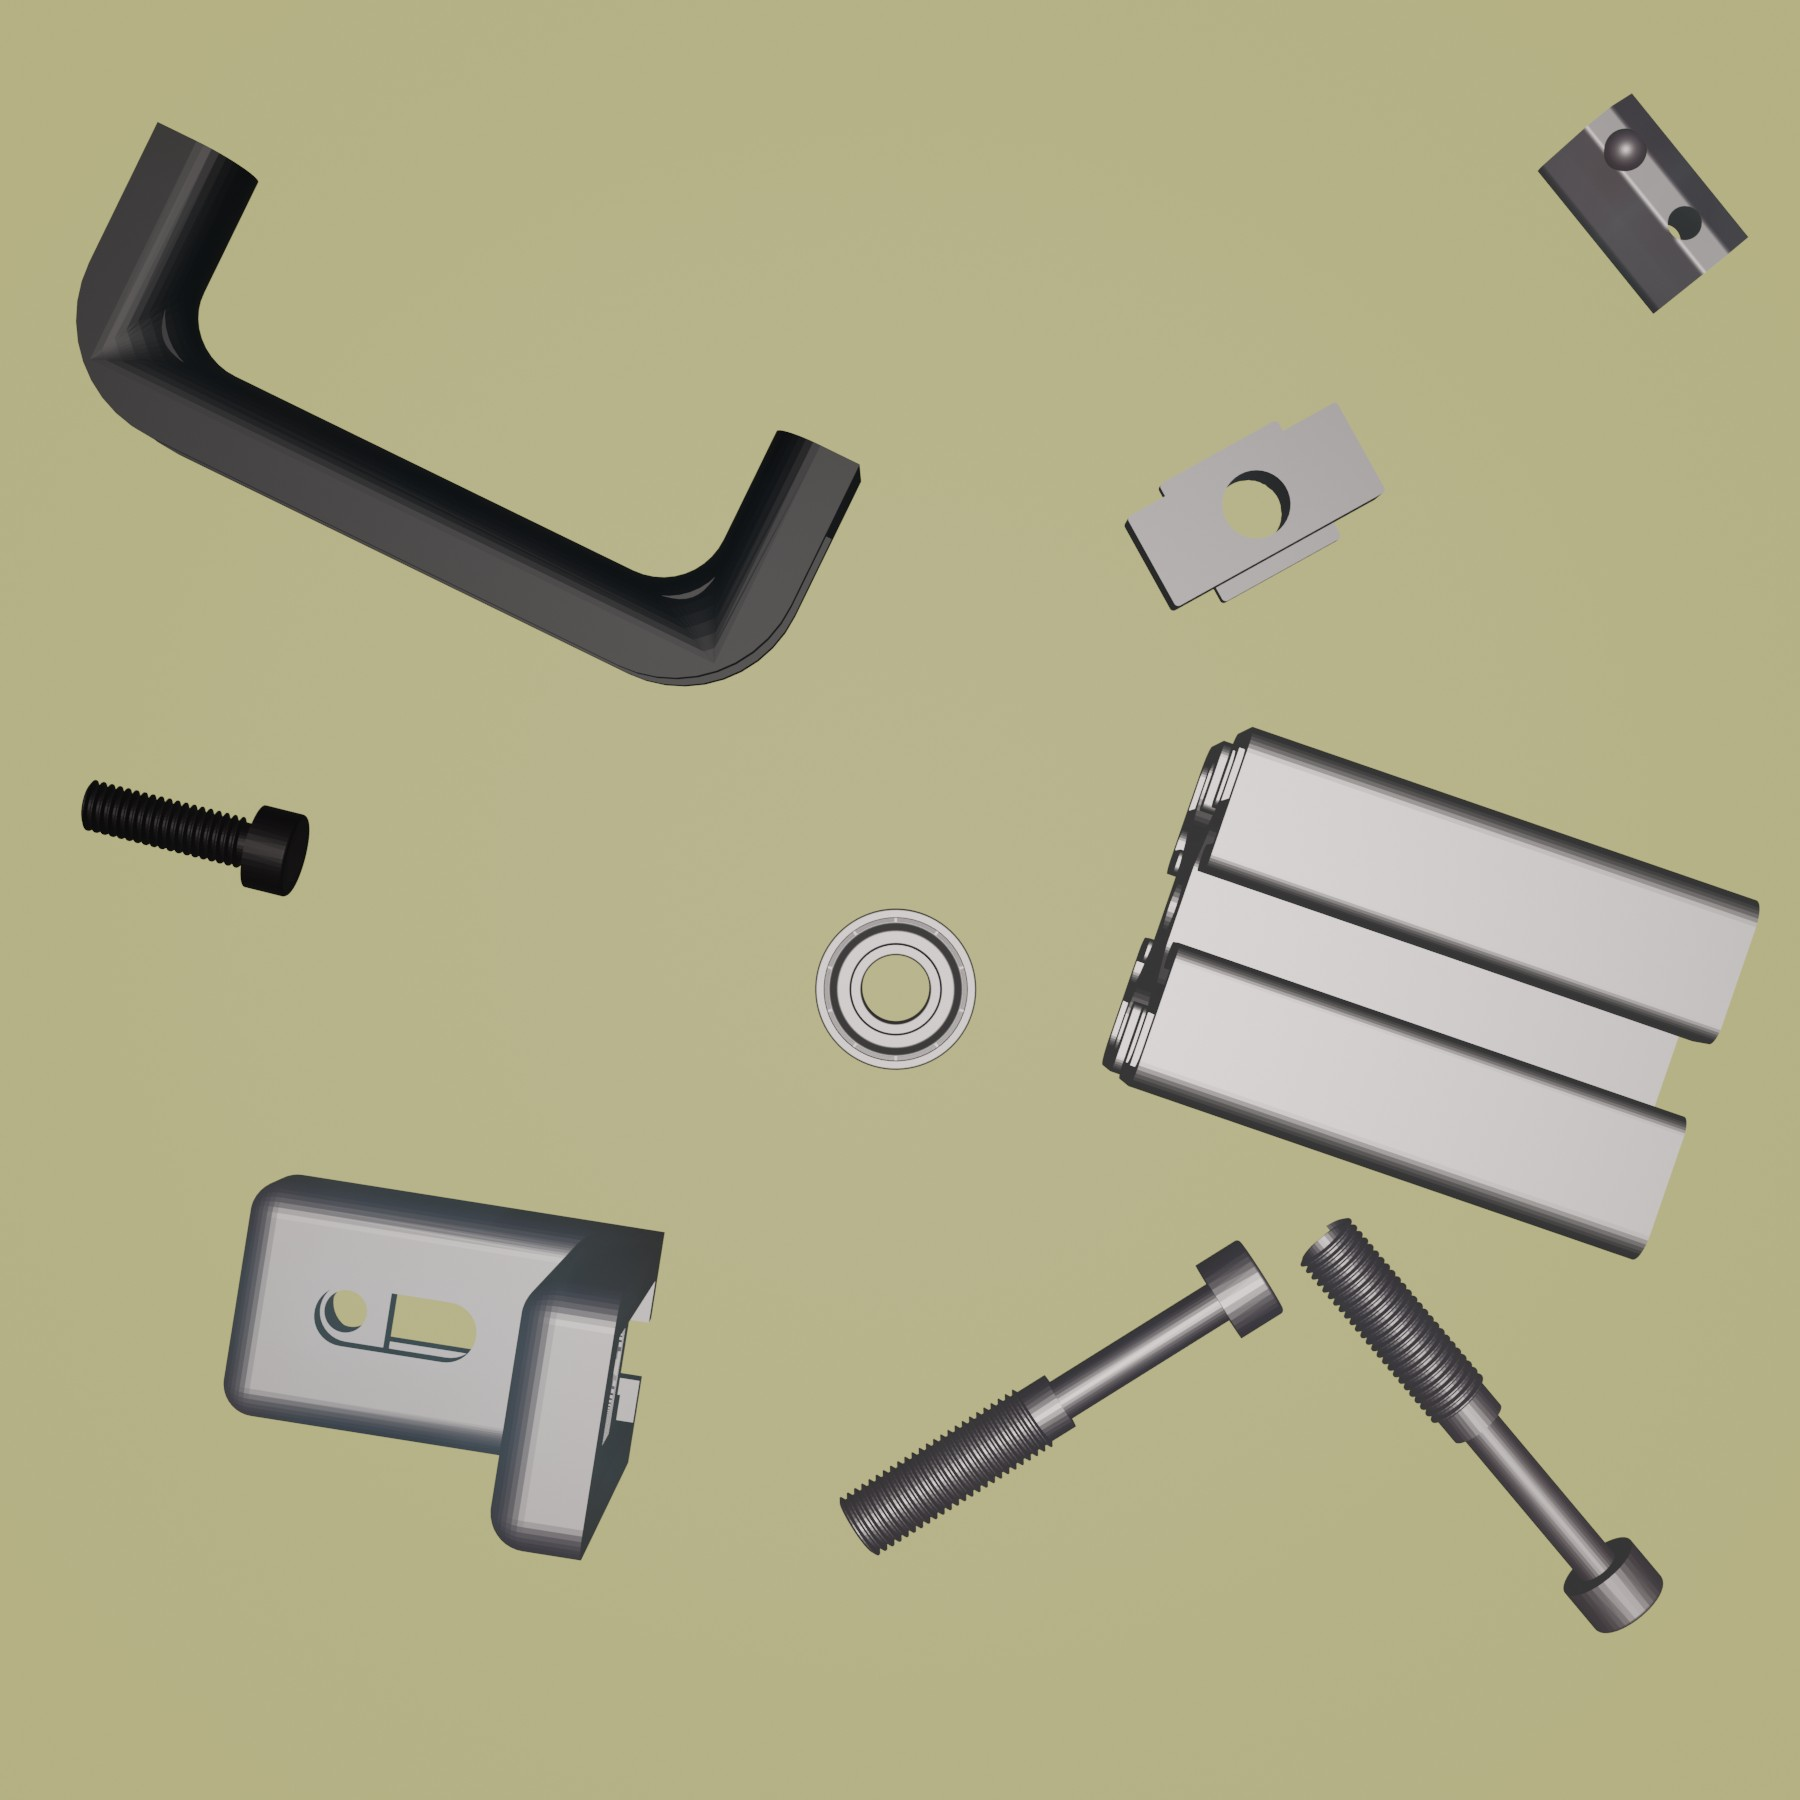Aluminium Extension: (1101, 724, 1764, 1263)
Ball Bearing: (813, 903, 979, 1073)
Multiwinkel: (219, 1169, 666, 1563)
Pull Handle: (73, 119, 864, 689)
Shoulder Socket Head Cap Screw: (1294, 1213, 1665, 1635), (837, 1236, 1286, 1558)
Socket Head Cap Screw: (77, 776, 312, 898)
T Nut Square: (1119, 396, 1390, 613)
T Spring Nut: (1531, 89, 1751, 315)
